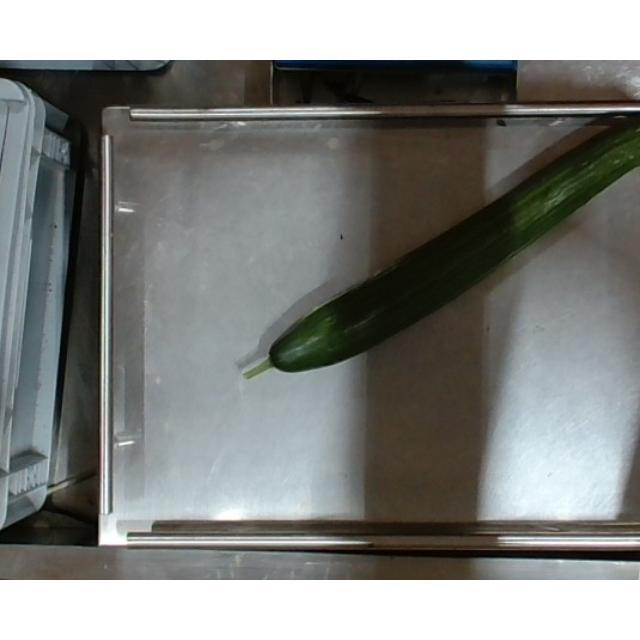cucumber: (244, 119, 640, 384)
